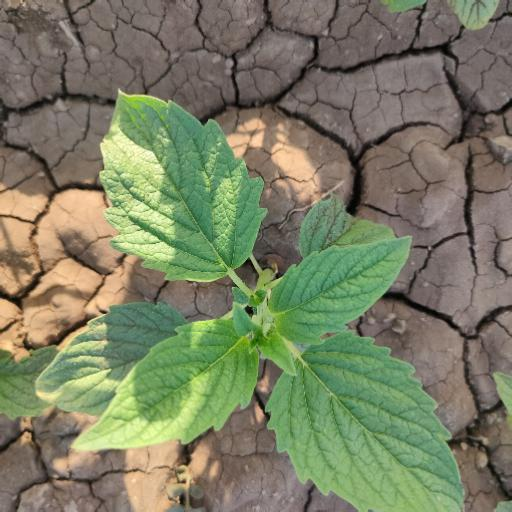crop: (32, 75, 472, 511)
